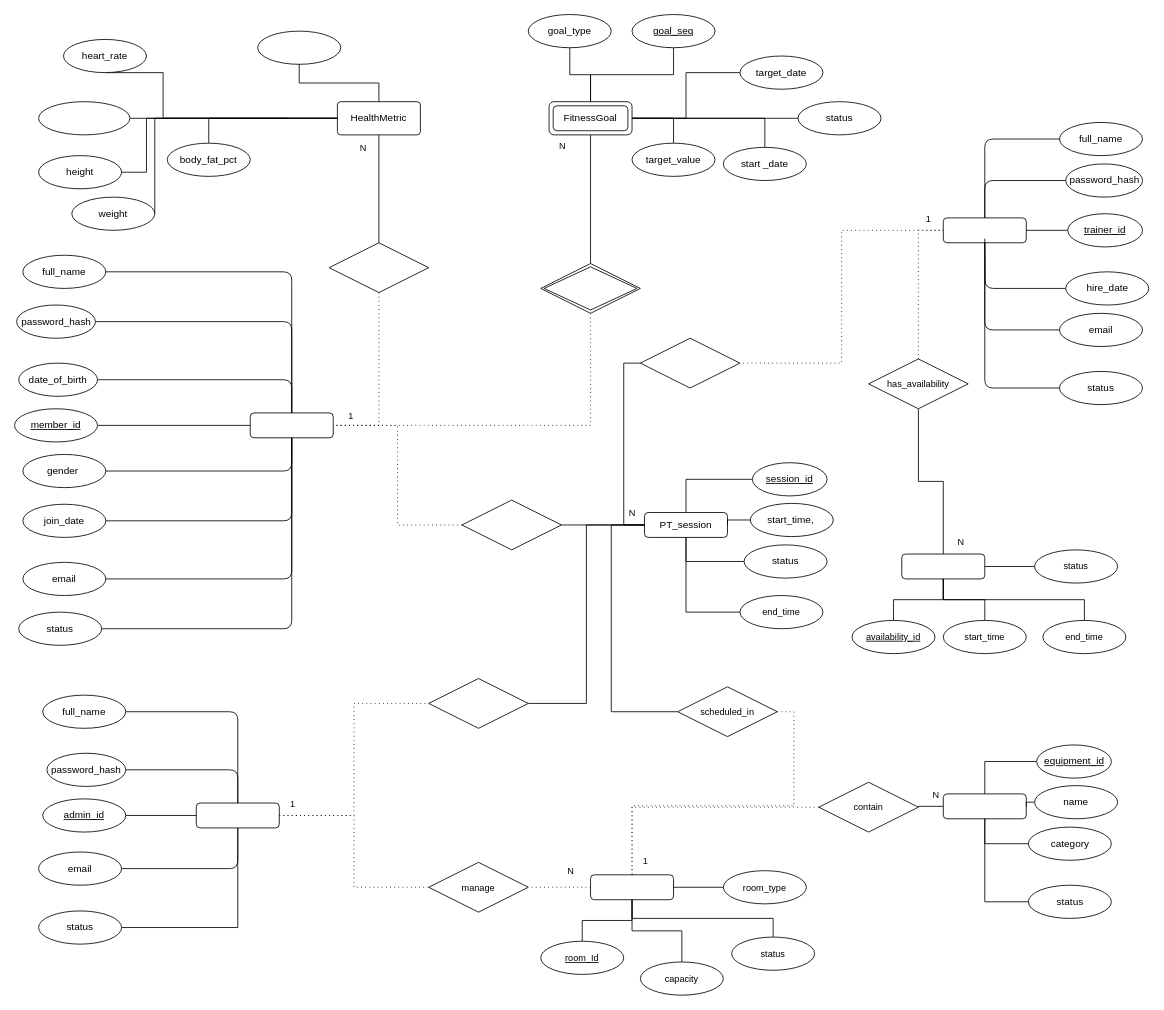
This 1164x1010 diagram has some shape labels left out. The box of each missing label's shape, as (x1, y1, x2, y2) in pixels:
Admin: (195, 802, 279, 828)
assign_room: (428, 678, 528, 728)
book: (461, 499, 561, 550)
conduct: (640, 337, 740, 388)
Equipment: (942, 793, 1026, 819)
has: (540, 263, 640, 313)
Member: (249, 412, 333, 438)
metric_id: (257, 30, 341, 64)
record: (328, 242, 429, 293)
recorded_date: (38, 101, 130, 135)
Room: (590, 874, 674, 900)
Trainer: (942, 217, 1026, 243)
TrainerAvailabilty: (901, 553, 985, 579)
